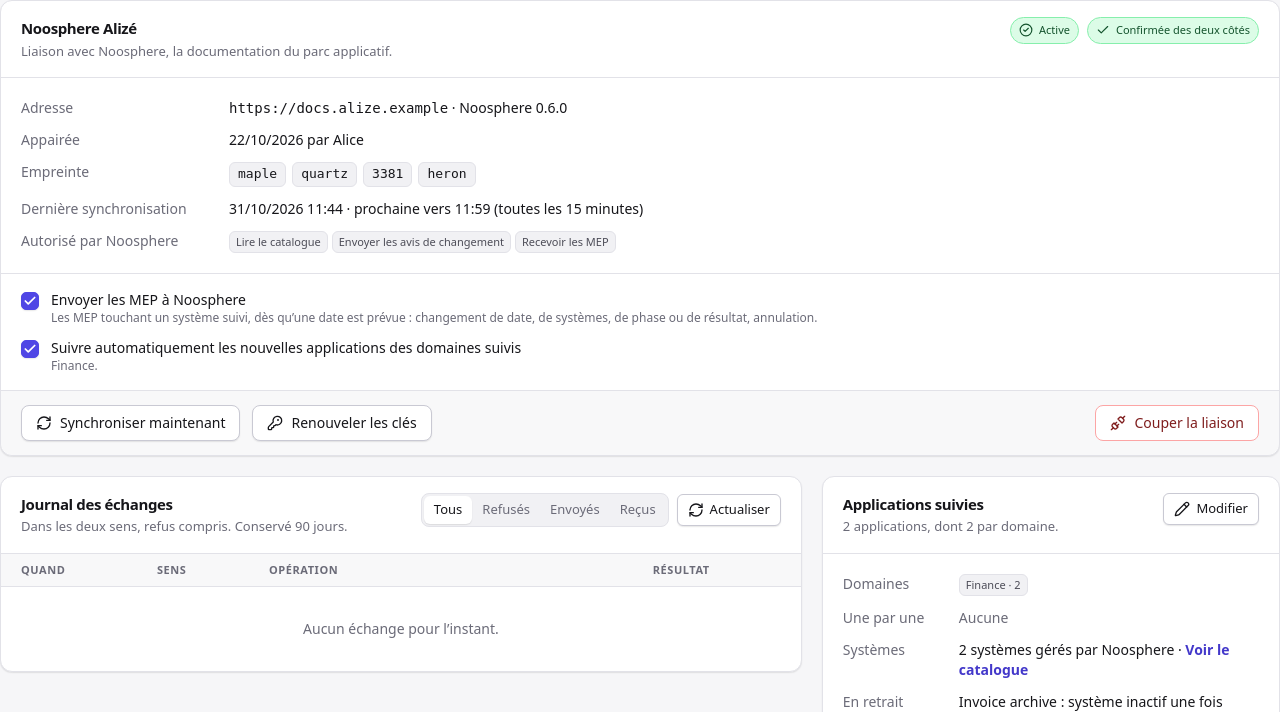
it: Onglet Liaisons : liaison active › « Synchroniser maintenant » relit le catalogue
The image size is (1280, 712).
Click the button "Synchroniser maintenant": (131, 423) [21,405,240,441]
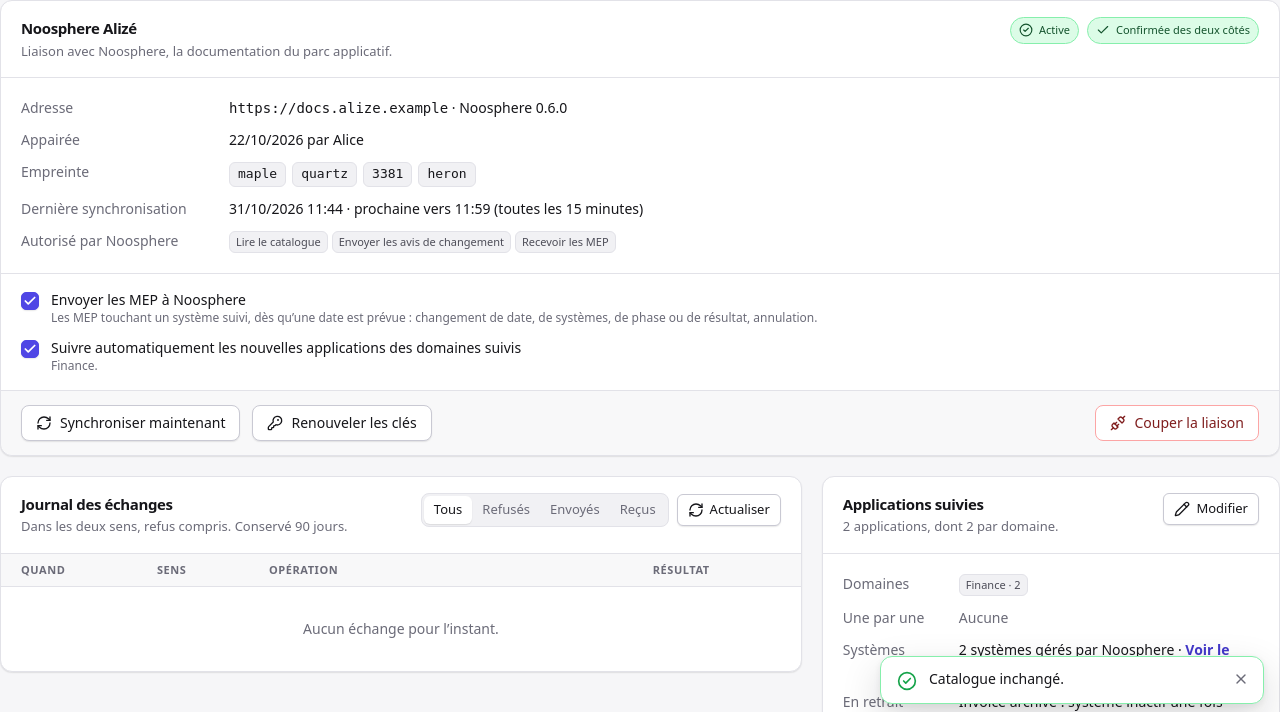
Expected: the text "Catalogue inchangé." is shown, [929,669,1064,688]
